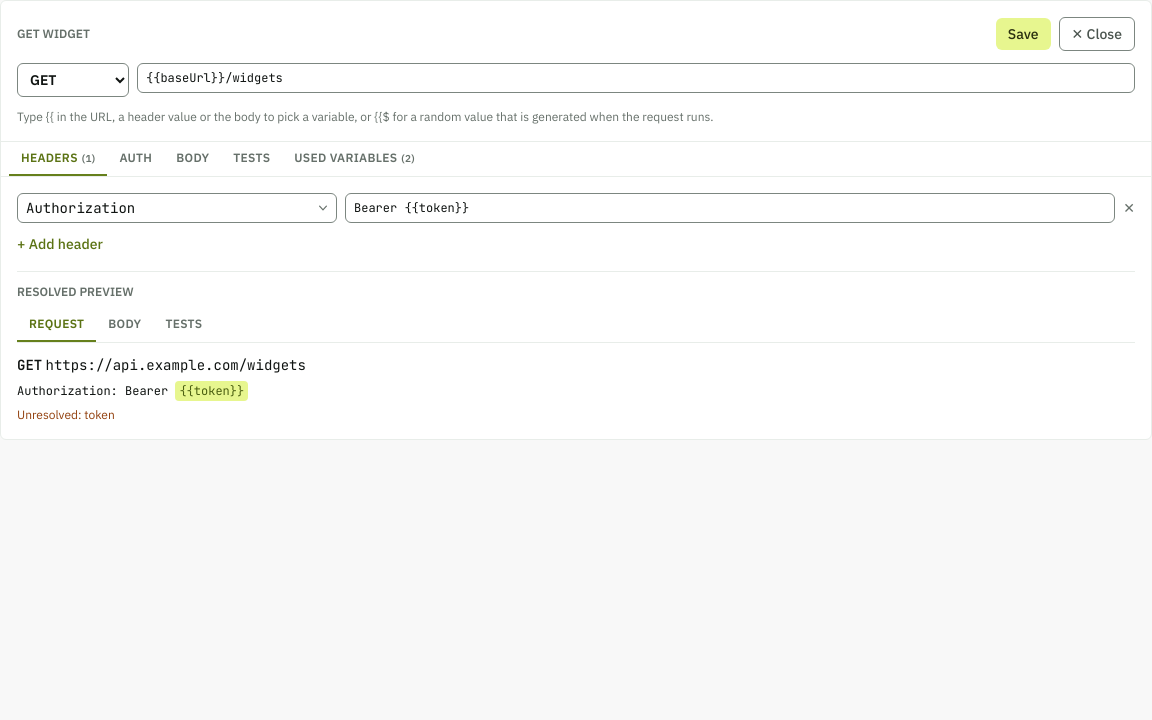
Test: RequestEditorPanel — effective auth and used variables (FR-002a, FR-002b) › lists each used variable with where it is used, a text status, and its value source
This screenshot has width=1152, height=720.
Click the tab "Used variables(2)" at (355, 159), box [282,142,427,176]
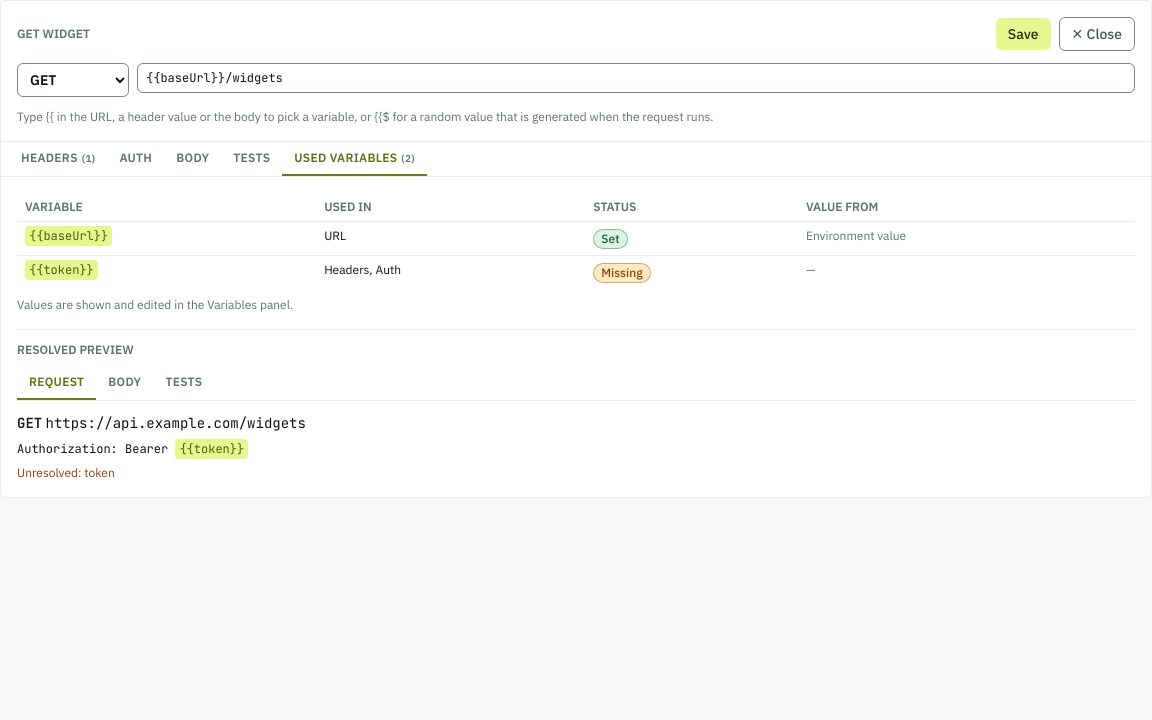
Expected: the row "{{baseUrl}} URL Set Environment value" is shown, [17,222,1135,256]
Expected: the row "{{token}} Headers, Auth Missing —" is shown, [17,256,1135,289]
